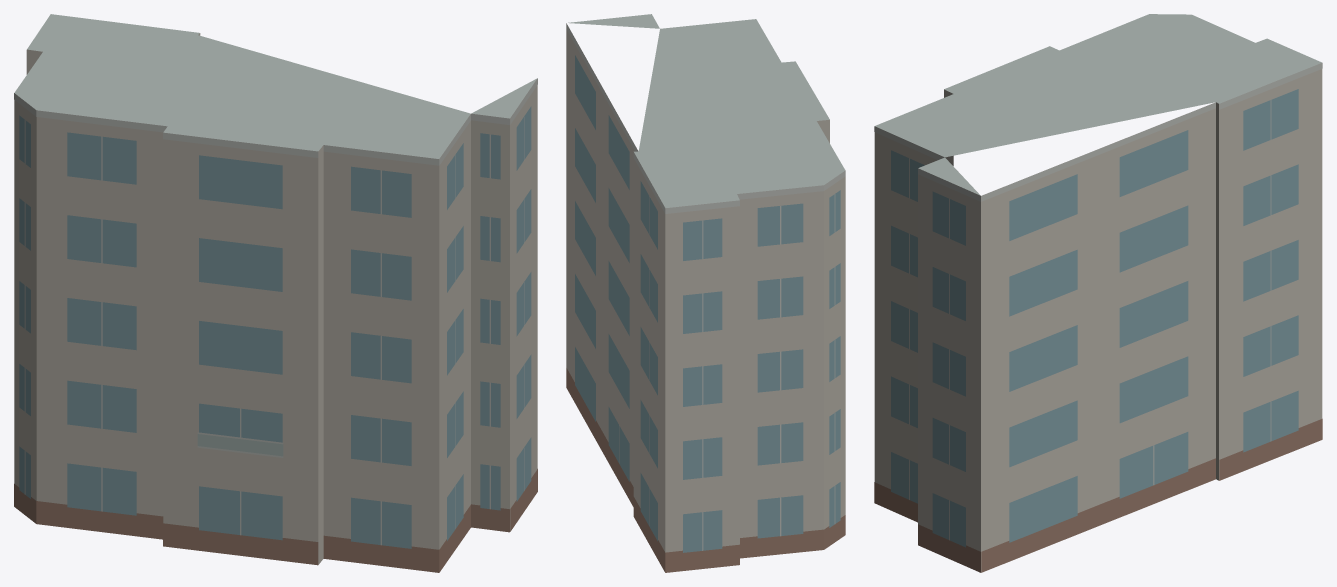
File: survey-upis-32966926.glb
3 views of the same model, side by side, from view 1: azimuth 30°, elevation 25°; view 2: azimuth 150°, elevation 25°; view 3: azimuth 270°, elevation 25° (orthographic). The views are drawn at different scales.
Parts seen in each view (by area): view 1: survey-upis-32966926.tmp; view 2: survey-upis-32966926.tmp; view 3: survey-upis-32966926.tmp.
Boxes of the visible parts, bbox=[...] form: survey-upis-32966926.tmp: bbox=[14, 14, 537, 572]; survey-upis-32966926.tmp: bbox=[566, 14, 845, 572]; survey-upis-32966926.tmp: bbox=[874, 14, 1322, 572].
Bounding box in the file's own units: 15.73 × 15.2 × 16.38.
